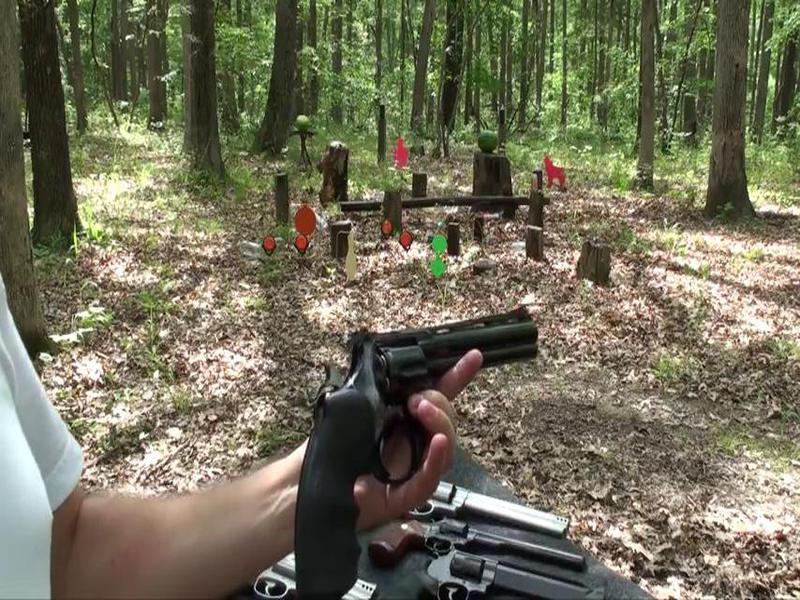Revolver: (265, 297, 557, 516)
